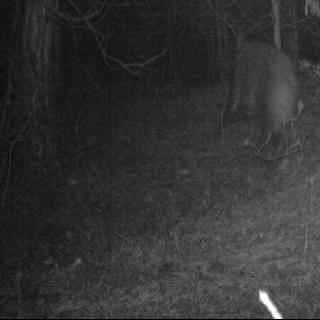Pig: (221, 41, 308, 164)
